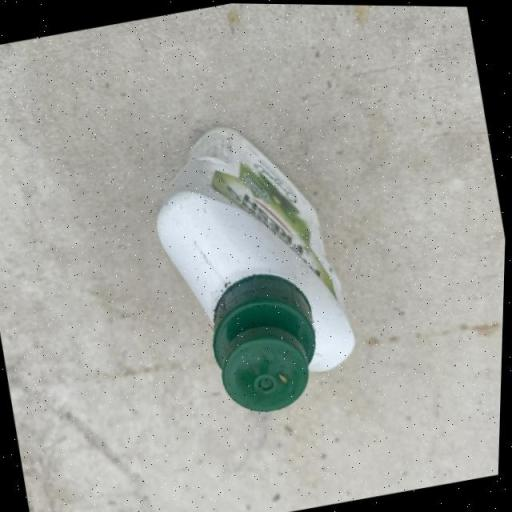plastic: (135, 105, 374, 428)
